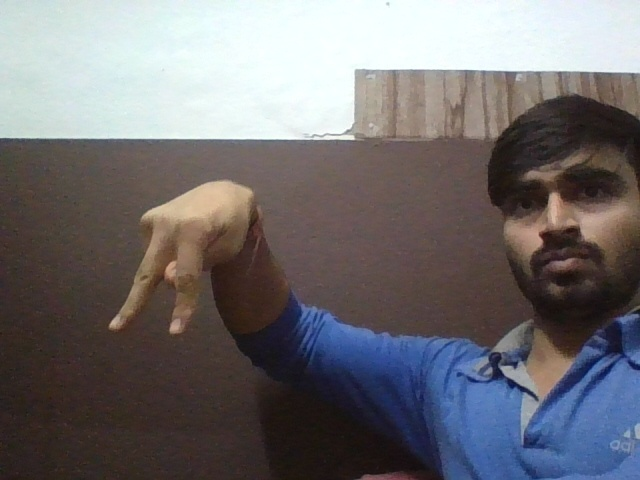P: (98, 175, 250, 335)
